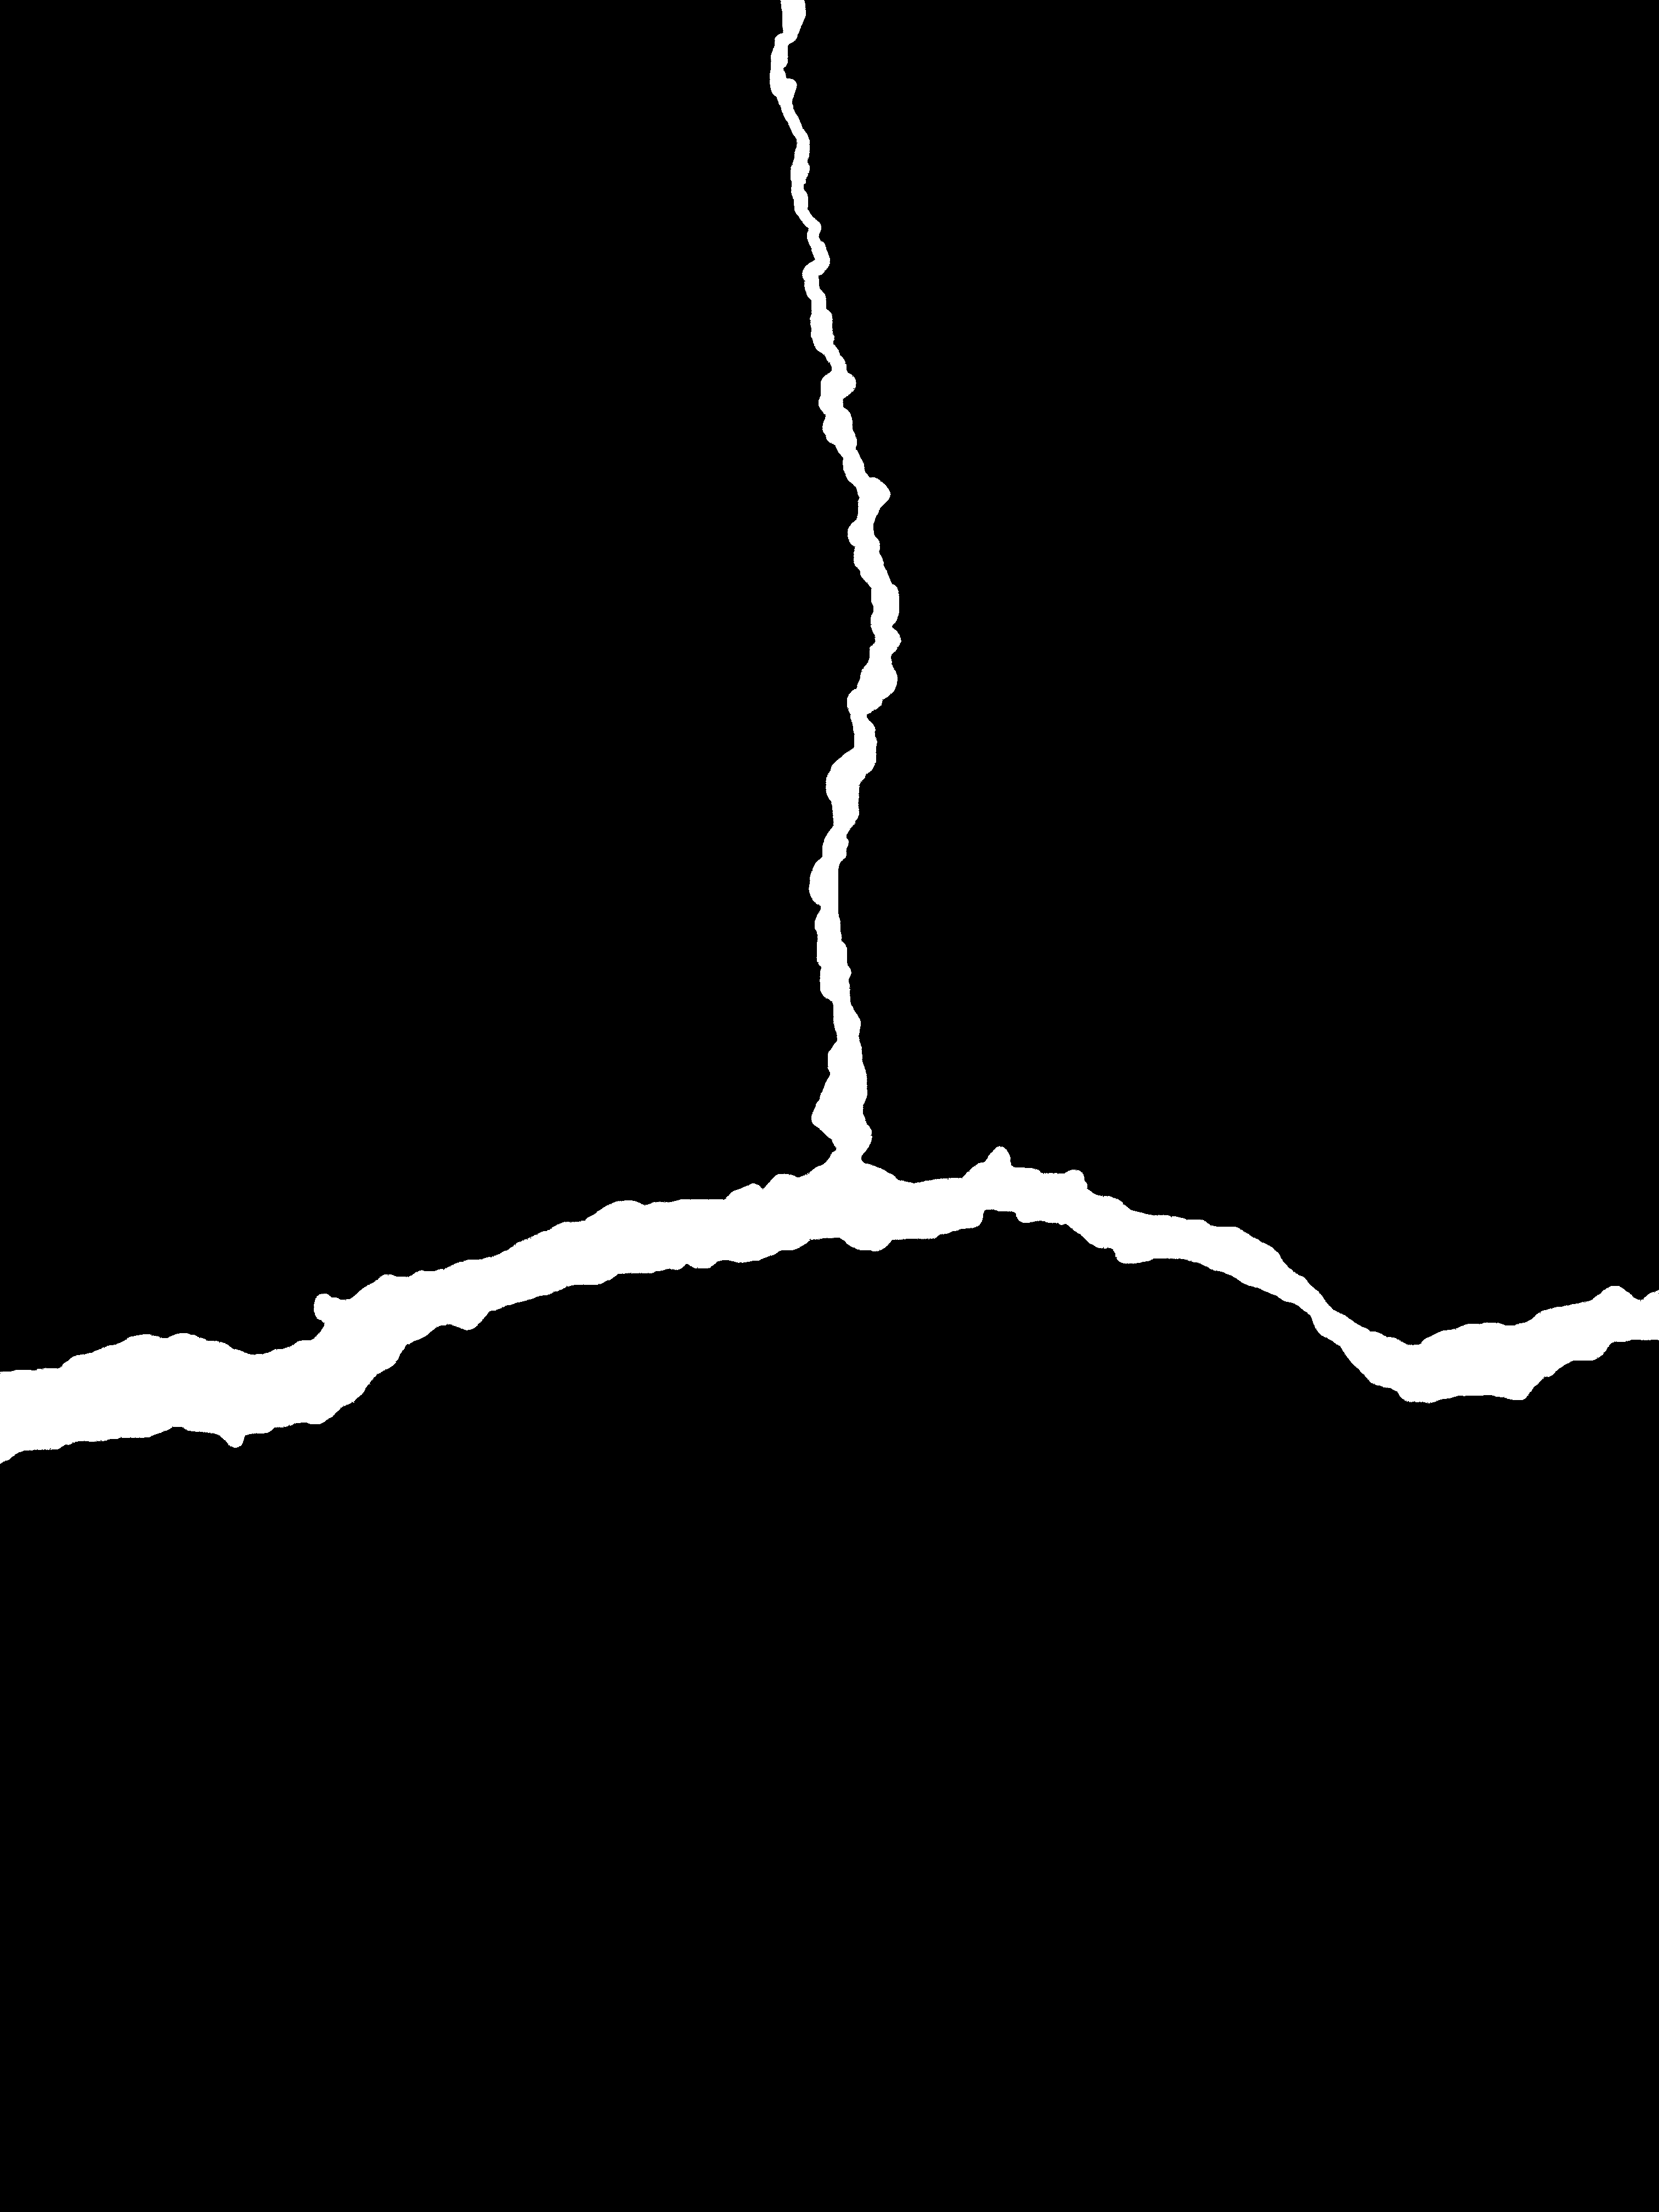Crack: (0, 0, 1659, 1480)
